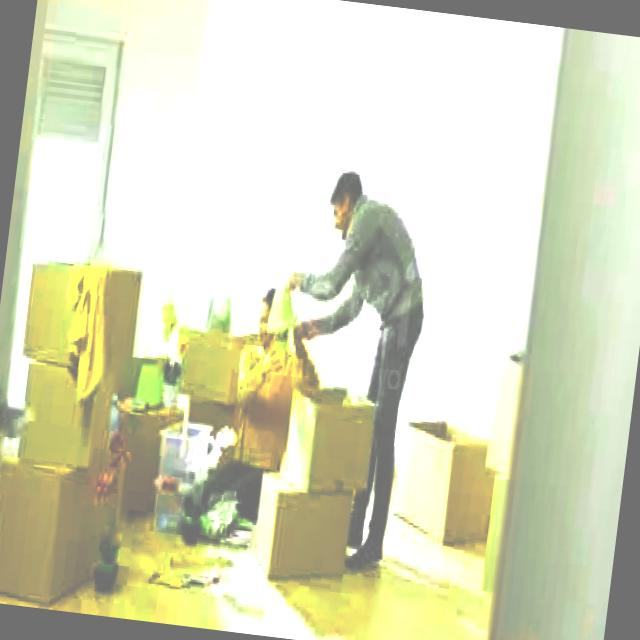Box: (0, 443, 125, 588), (12, 260, 147, 383), (8, 356, 128, 478), (389, 421, 498, 550), (248, 472, 356, 598), (289, 390, 376, 498)
